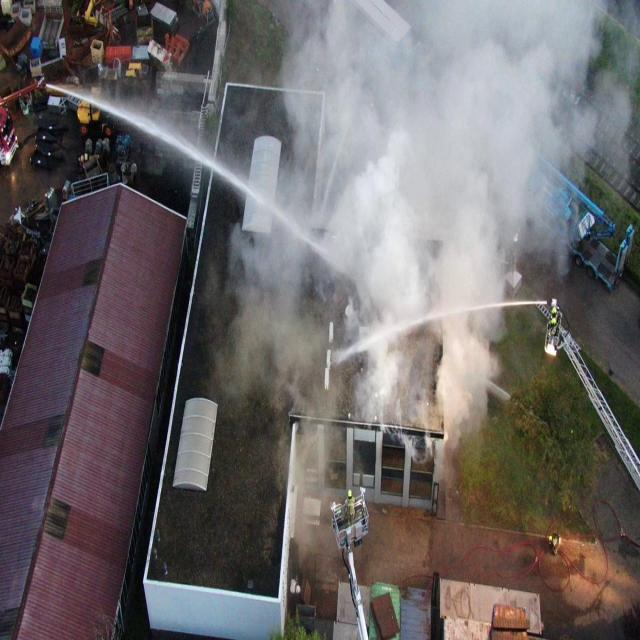Fire: (444, 433, 448, 442)
Smoke: (199, 0, 640, 564)
